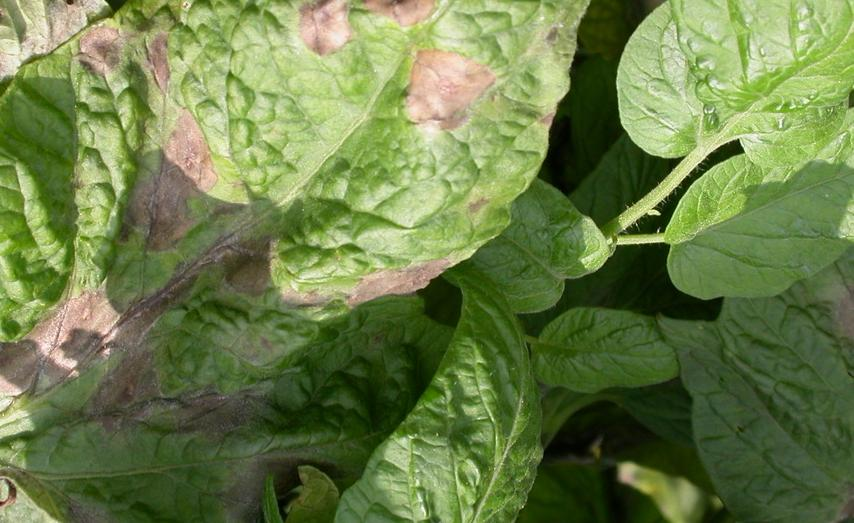Tomato leaf late blight: (0, 0, 602, 487), (676, 239, 854, 523)
